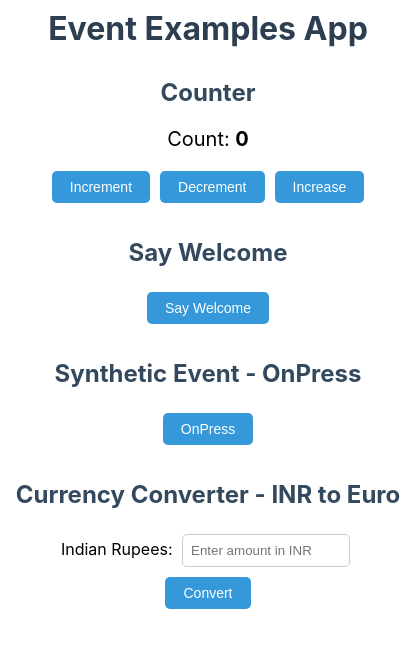
Test case: OnPress displays I was clicked
Click the button "OnPress" at (208, 429), box [163,413,253,445]
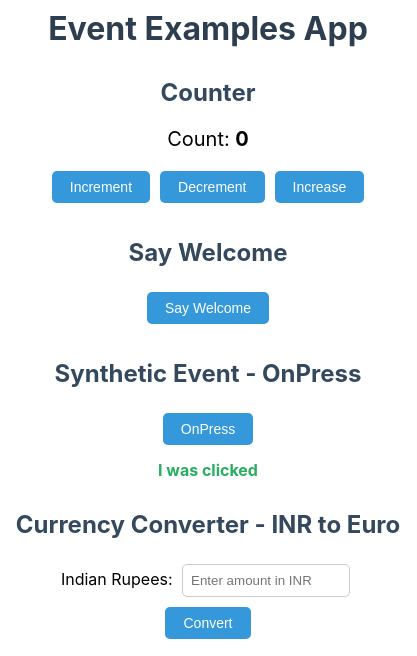
Check: the text "I was clicked" is shown, box [158,460,258,480]
